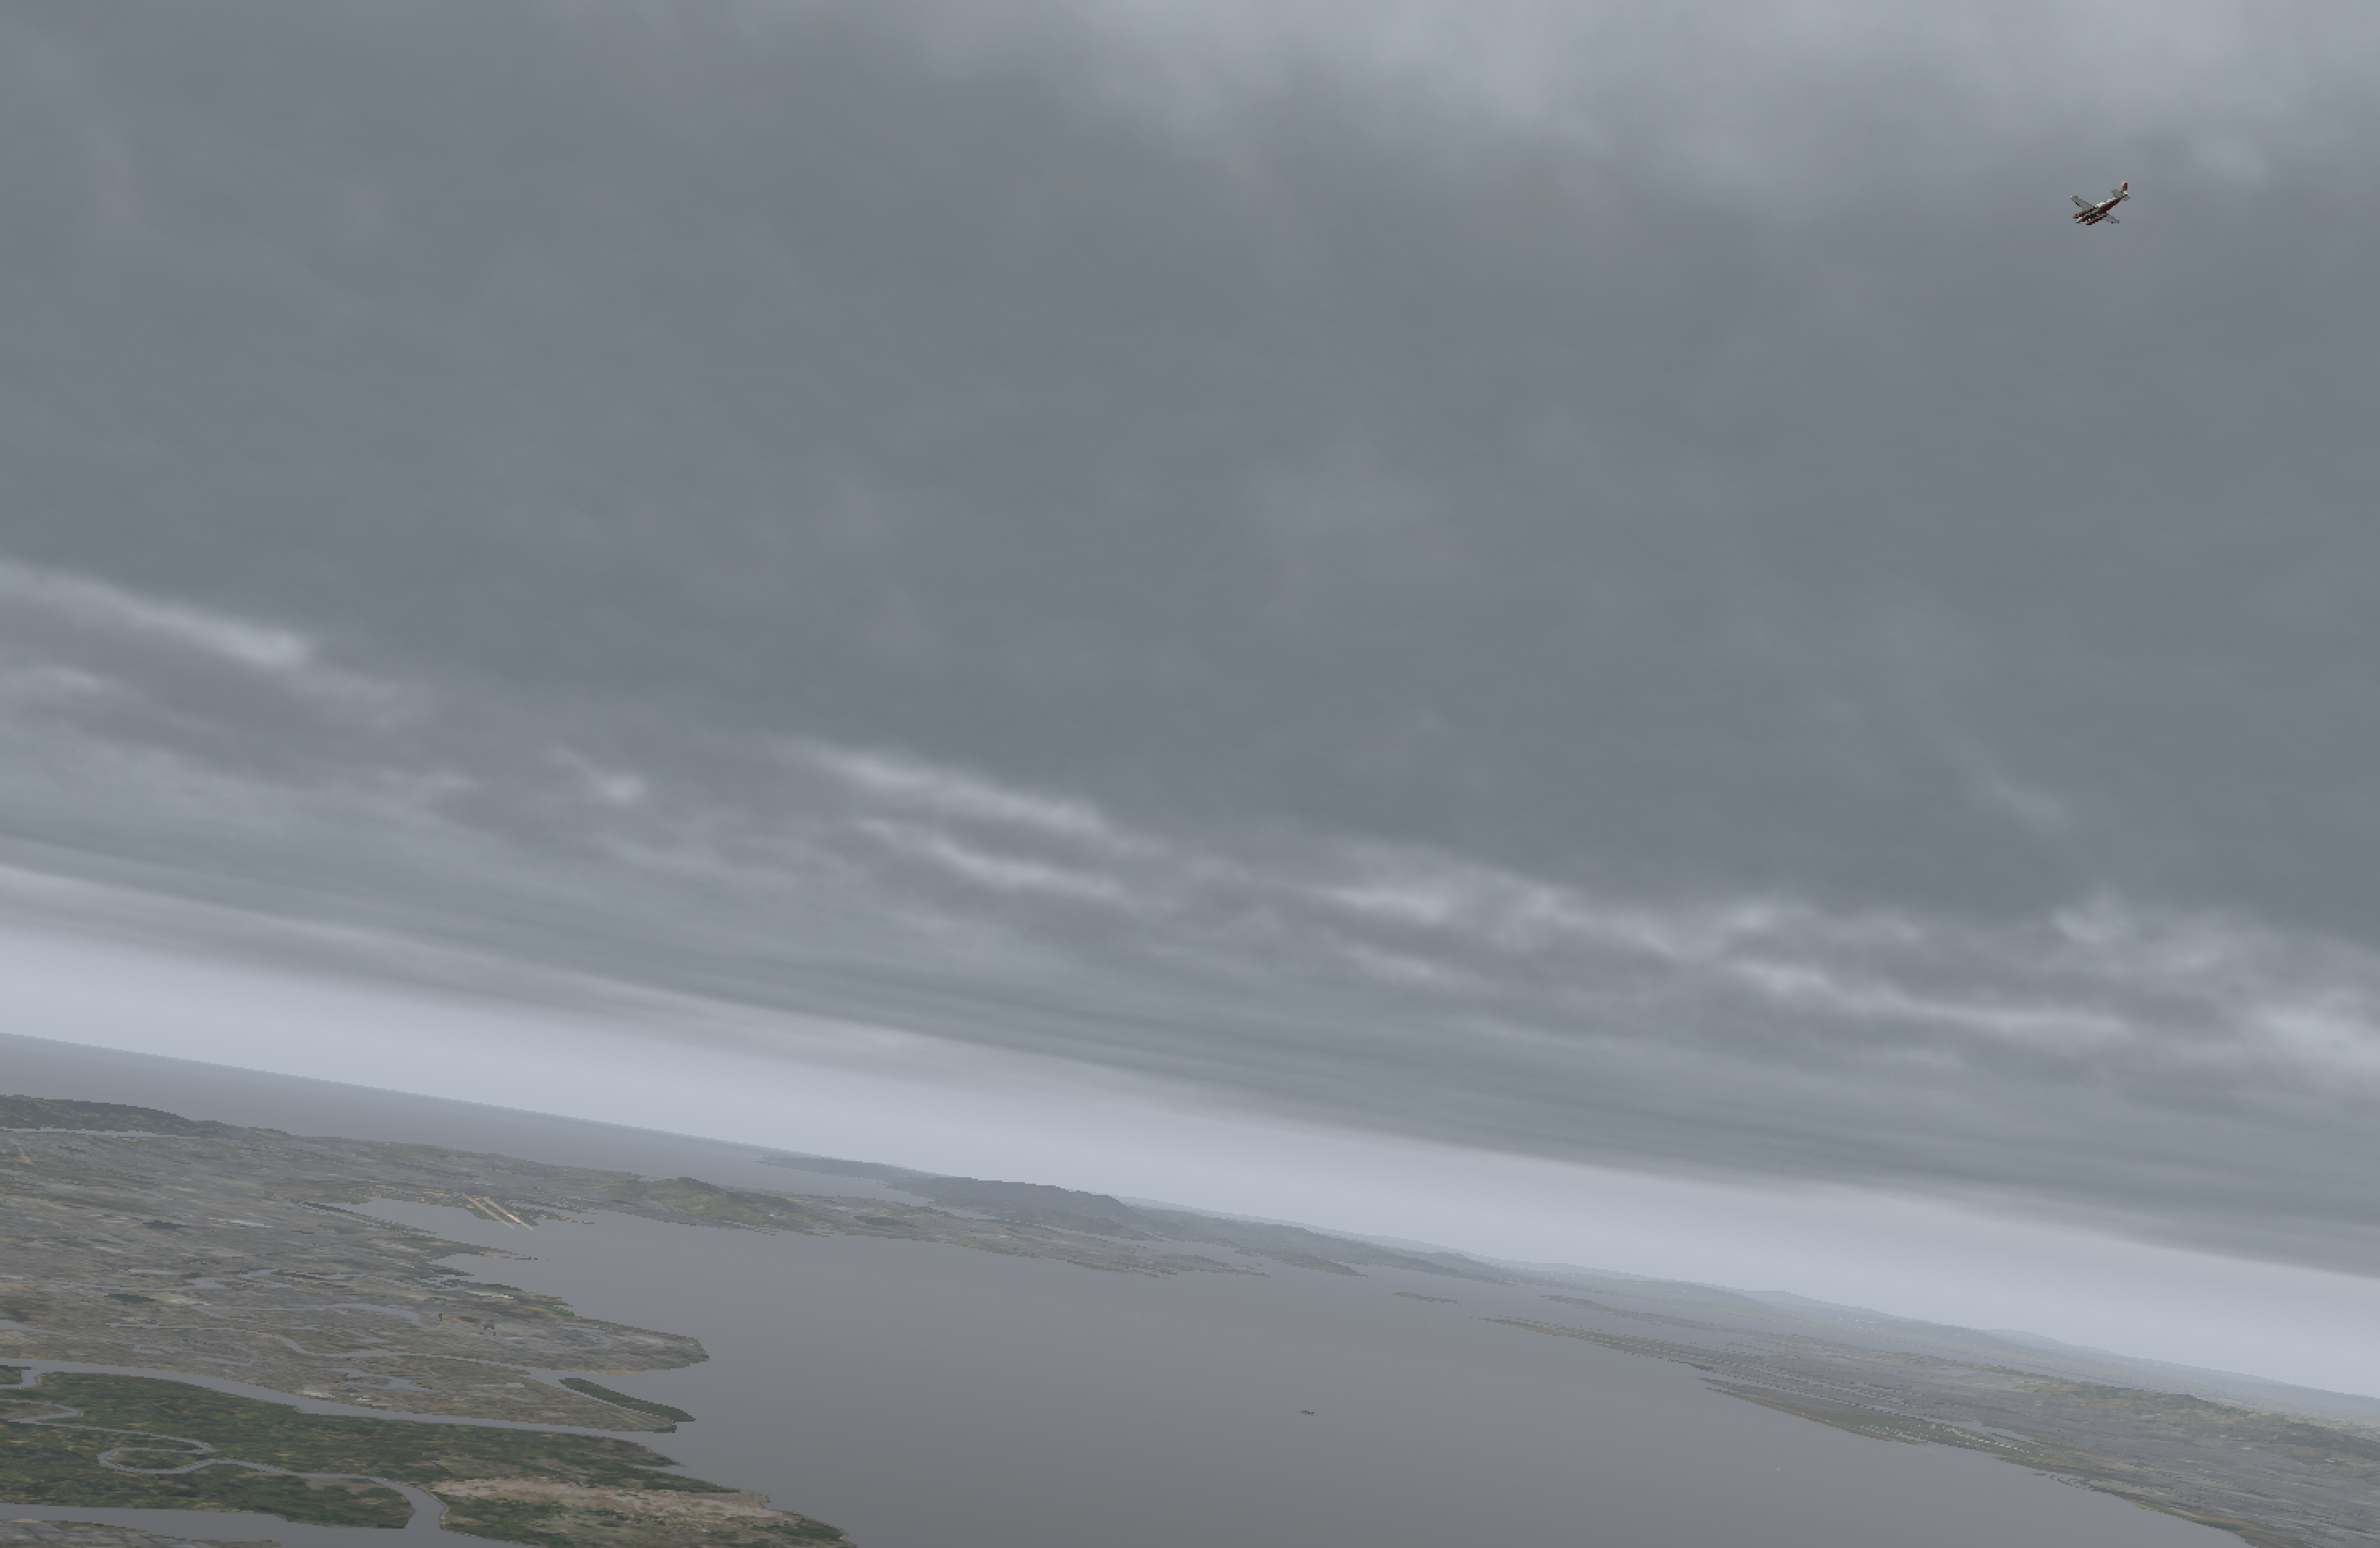aircraft: (2056, 201, 2132, 229)
